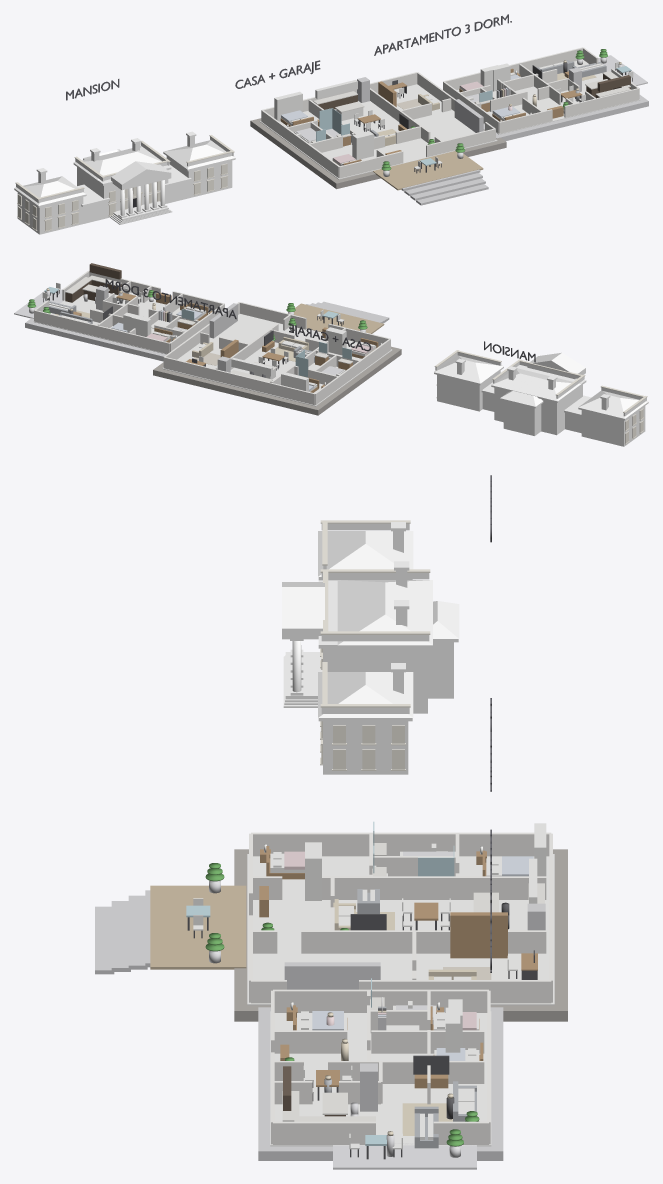
The model's file is COMPARATIVA.glb.
3 renders of one model, top to bottom at view 1: azimuth 30°, elevation 25°; view 2: azimuth 150°, elevation 25°; view 3: azimuth 270°, elevation 25°, orthographic. The views are drawn at different scales.
Visible parts, largest first — view 1: PA_slab, PA_terrace, PA_plinth, PB_plinth, HOUSE_Wing_L, ROOF_Center, wall.002, PB_slab, HOUSE_Wing_R, wall.022, ROOF_Wing_R, wall.020 (+29 smaller); view 2: PA_slab, PA_plinth, wall.003, wall.022, HOUSE_Wing_L, ROOF_Center, HOUSE_Center, HOUSE_Wing_R, PB_plinth, PA_terrace, HOUSE_CenterRear, wall.002 (+26 smaller); view 3: PA_slab, PA_terrace, PB_slab, wall.002, PB_plinth, ROOF_Center, PA_plinth, wall.007, wall.009, wall.021, ROOF_Wing_L, PB_balcony (+20 smaller).
Boxes of the visible parts, x1,y1,x2,y2 form: PA_slab: (260,84,497,179); PA_terrace: (373,151,483,190); PA_plinth: (250,118,506,189); PB_plinth: (483,95,648,140); HOUSE_Wing_L: (17,192,83,234); ROOF_Center: (73,146,161,180); wall.002: (261,110,339,177); PB_slab: (457,60,640,134); HOUSE_Wing_R: (166,156,232,198); wall.022: (443,47,582,89); ROOF_Wing_R: (163,140,235,169); wall.020: (564,88,639,117); PA_slab: (162,314,392,406); PA_plinth: (153,346,401,415); wall.003: (164,357,315,404); wall.022: (34,310,169,353); HOUSE_Wing_L: (581,406,645,446); ROOF_Center: (491,368,580,401); HOUSE_Center: (494,385,582,435); HOUSE_Wing_R: (437,370,500,411); PB_plinth: (25,299,172,361); PA_terrace: (294,303,384,333); HOUSE_CenterRear: (503,401,541,435); wall.002: (314,339,390,404); PA_slab: (247,854,554,1005); PA_terrace: (150,885,246,969); PB_slab: (270,1011,491,1146); wall.002: (251,832,551,856); PB_plinth: (258,1007,503,1160); ROOF_Center: (337,580,432,645); PA_plinth: (234,849,567,1021); wall.007: (322,876,546,899); wall.009: (301,930,546,953); wall.021: (273,989,488,1012); ROOF_Wing_L: (318,531,413,576); PB_balcony: (333,1143,476,1169).
Size of what is drawn, in the model's own units: 31.49 by 4.95 by 10.83.
